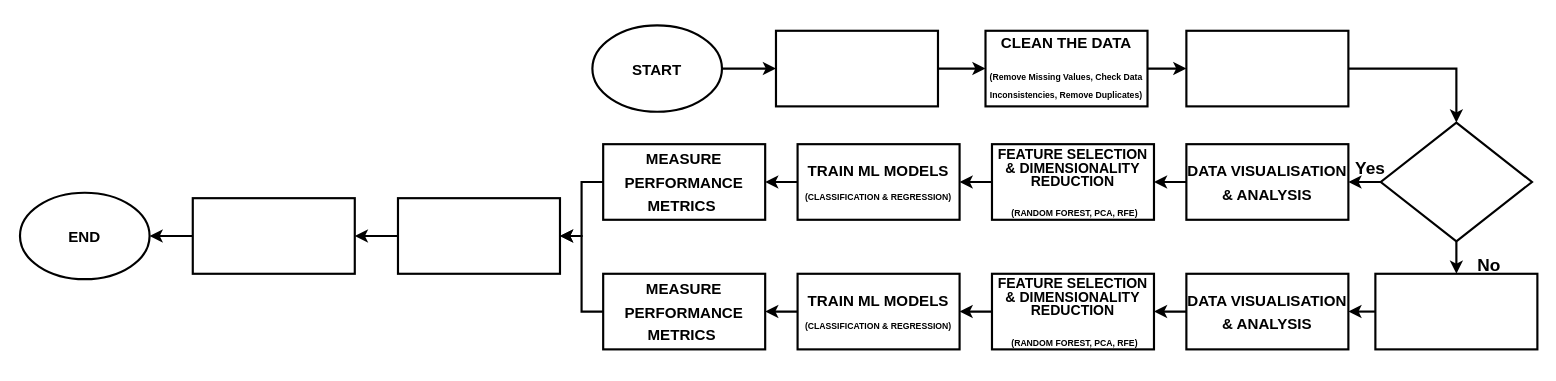
Image size: 1556x381. Some labels were removed from this diagram. The centre of each missing label's shape, as x and y in pixels:
APPLY LABEL ENCODING: (1267,68)
APPLY SMOTE TECHNIQUE: (1456,311)
APPLY XAI MODELS (LIME & SHAP): (478,235)
INTERPRET RESULTS: (273,235)
IS THE DATA BALANCE ?: (1456,181)
UNDERSTAND THE DATA: (856,68)
